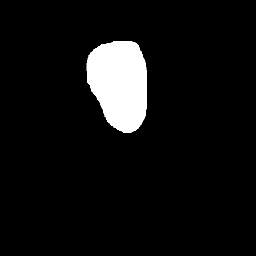mass: (104, 11, 164, 128)
